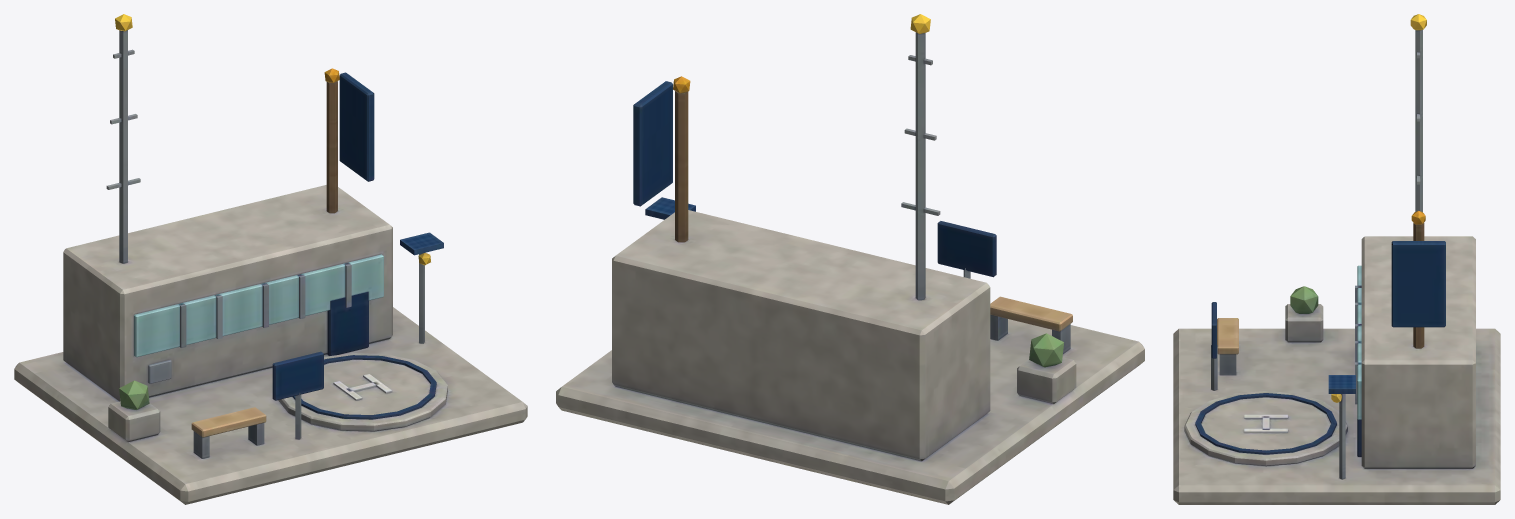
The model's file is barracks-25.glb.
3 views of the same model, side by side, from view 1: azimuth 30°, elevation 25°; view 2: azimuth 150°, elevation 25°; view 3: azimuth 270°, elevation 25° (orthographic). The views are drawn at different scales.
Visible parts, largest first — view 1: barracks-25; view 2: barracks-25; view 3: barracks-25.
Part boxes in pixels (x1,y1,x2,y2): barracks-25: (14,14,527,504); barracks-25: (556,14,1144,504); barracks-25: (1173,14,1500,504).
Size of the model in its own units: 1.4 by 1.48 by 1.2.
1 material, 1 textured.
